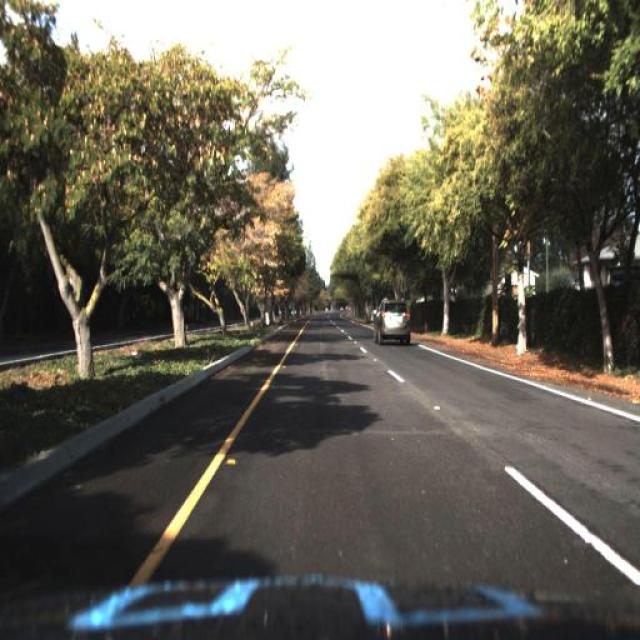car: (373, 298, 412, 348)
